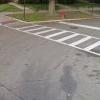Crosswalk: (4, 13, 87, 57)
